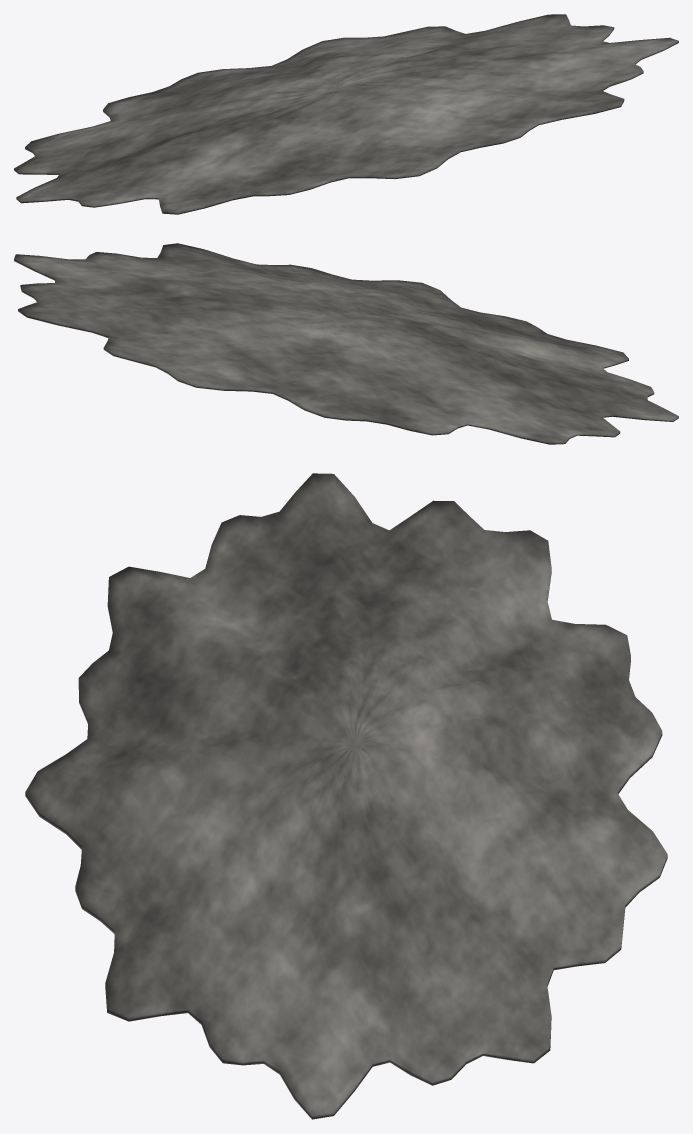
File: PROJECT_Z_VR26_10_Ash_Deposit_Windblown.glb
3 views of the same model, one above another, from view 1: azimuth 30°, elevation 25°; view 2: azimuth 150°, elevation 25°; view 3: azimuth 270°, elevation 25° (orthographic). The views are drawn at different scales.
Parts seen in each view (by area): view 1: 10_Ash_Deposit_Windblown__RENDER_Ash_Drift_4m; view 2: 10_Ash_Deposit_Windblown__RENDER_Ash_Drift_4m; view 3: 10_Ash_Deposit_Windblown__RENDER_Ash_Drift_4m.
Boxes of the visible parts, x1,y1,x2,y2 form: 10_Ash_Deposit_Windblown__RENDER_Ash_Drift_4m: (14,14,678,214); 10_Ash_Deposit_Windblown__RENDER_Ash_Drift_4m: (14,243,678,444); 10_Ash_Deposit_Windblown__RENDER_Ash_Drift_4m: (25,473,667,1119).
Size of the model in its own units: 4.57 by 0.1855 by 1.93.
Materials: 1 (1 with a texture image).
